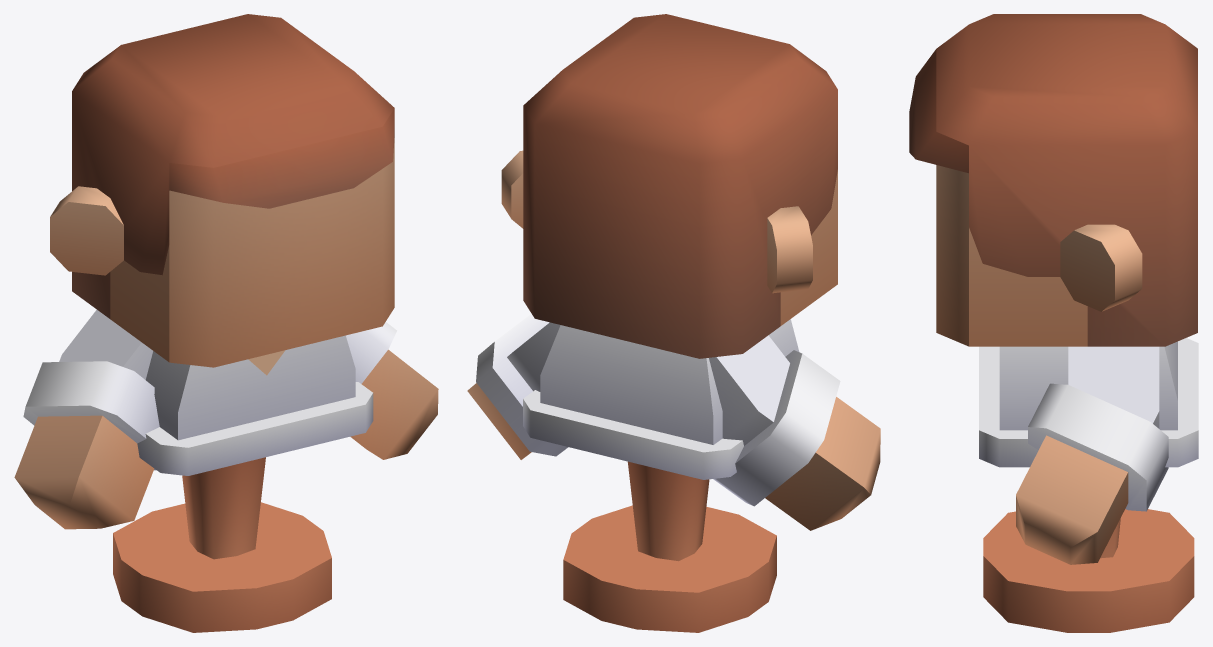
File: mannequin.obj
3 views of the same model, side by side, from view 1: azimuth 30°, elevation 25°; view 2: azimuth 150°, elevation 25°; view 3: azimuth 270°, elevation 25° (orthographic). The views are drawn at different scales.
Parts seen in each view (by area): view 1: mannequin; view 2: mannequin; view 3: mannequin.
Part boxes in pixels (x1,y1,x2,y2): mannequin: (14,14,438,632); mannequin: (467,14,880,632); mannequin: (909,14,1198,632).
Size of the model in its own units: 0.5786 by 0.7187 by 0.3534.
1 material, 1 textured.
